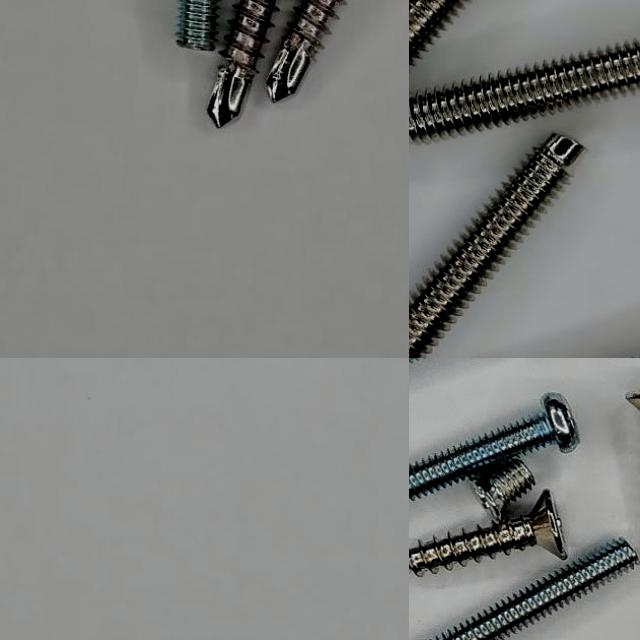Screw: (409, 134, 581, 358), (409, 40, 640, 141), (434, 539, 640, 640), (409, 394, 580, 503), (409, 491, 568, 576), (208, 0, 277, 127), (269, 0, 344, 101), (469, 458, 535, 524), (176, 0, 219, 50)
